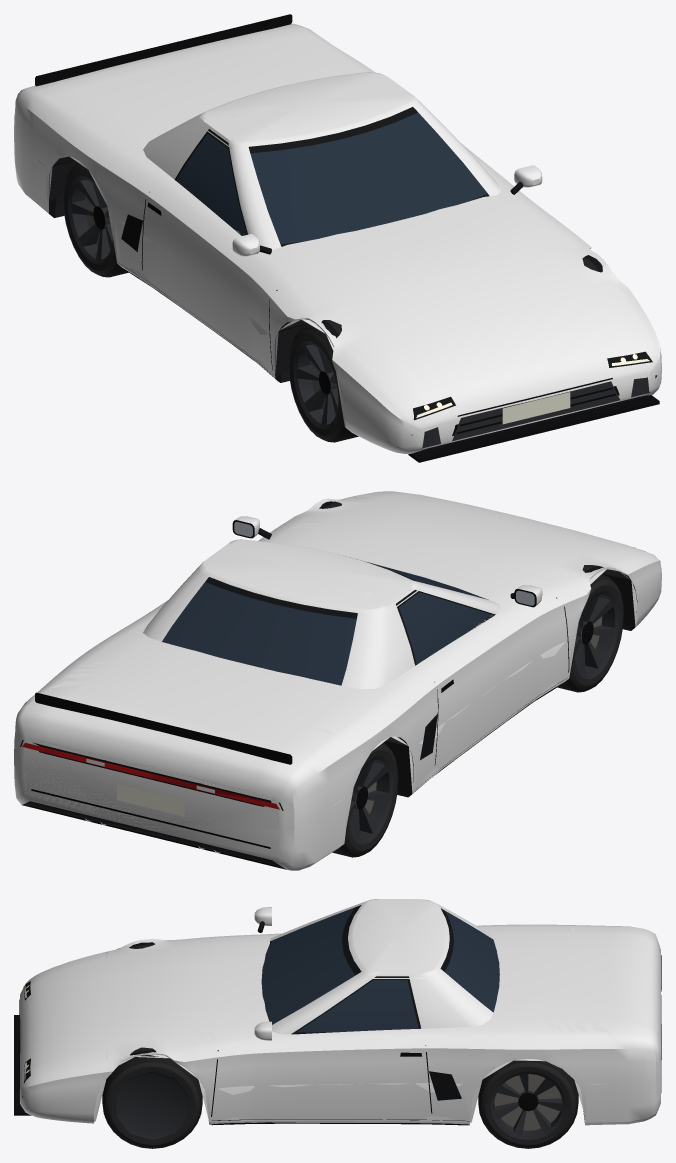
File: sports.glb
3 renders of one model, top to bottom at view 1: azimuth 30°, elevation 25°; view 2: azimuth 150°, elevation 25°; view 3: azimuth 270°, elevation 25°, orthographic. The views are drawn at different scales.
Visible parts, largest first — view 1: Body, BodyLod, Wheel_FR, Wheel_RR; view 2: Body, BodyLod, Wheel_FR, Wheel_RR; view 3: Body, Wheel_RL, WheelLod_FL, BodyLod, Wheel_FL.
Boxes of the visible parts, bbox=[...] form: Body: bbox=[14, 14, 661, 462]; BodyLod: bbox=[33, 35, 651, 446]; Wheel_FR: bbox=[288, 325, 358, 442]; Wheel_RR: bbox=[63, 162, 128, 277]; Body: bbox=[14, 491, 661, 870]; BodyLod: bbox=[23, 495, 636, 852]; Wheel_FR: bbox=[557, 574, 623, 692]; Wheel_RR: bbox=[332, 742, 398, 857]; Body: bbox=[14, 899, 661, 1125]; Wheel_RL: bbox=[478, 1060, 578, 1148]; WheelLod_FL: bbox=[105, 1063, 200, 1144]; BodyLod: bbox=[19, 907, 661, 1122]; Wheel_FL: bbox=[102, 1057, 202, 1148].
Bounding box in the file's own units: 1.98 × 1.21 × 4.4.
8 materials, 6 textured.
